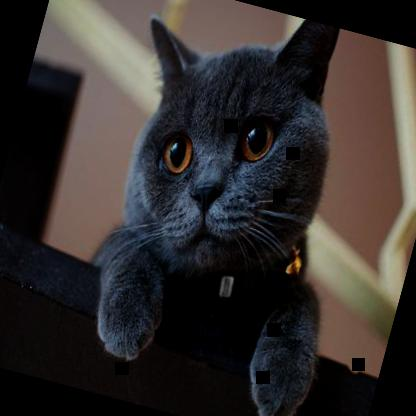cat: (56, 0, 403, 415)
